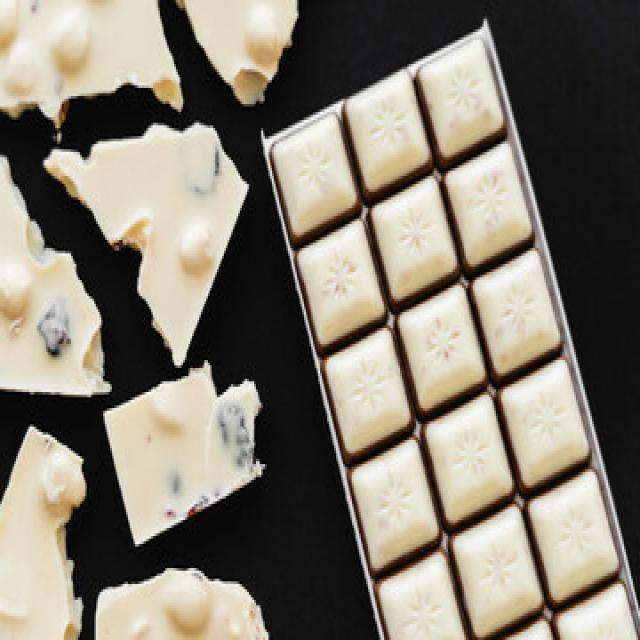Chocolate: (266, 31, 640, 639), (42, 110, 248, 375), (100, 364, 269, 543), (0, 0, 181, 114), (0, 419, 88, 640), (96, 561, 271, 640)
